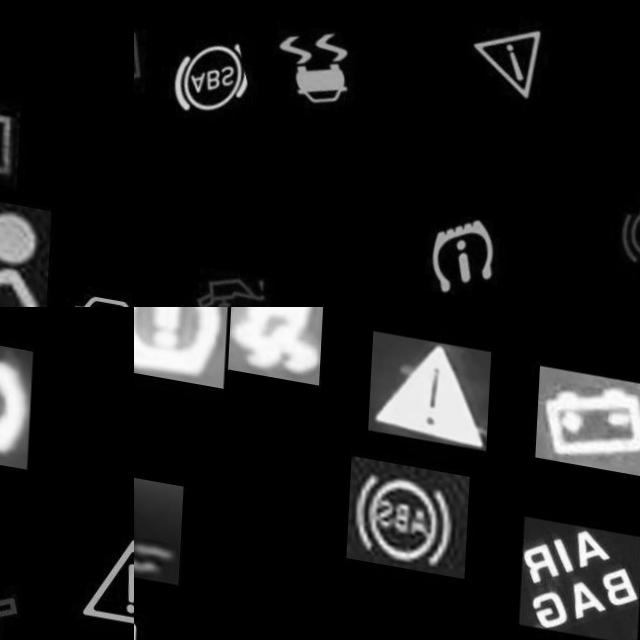Central Warning lamp: (372, 318, 494, 434), (73, 498, 134, 633)
Engine cooling system: (134, 463, 187, 578)
